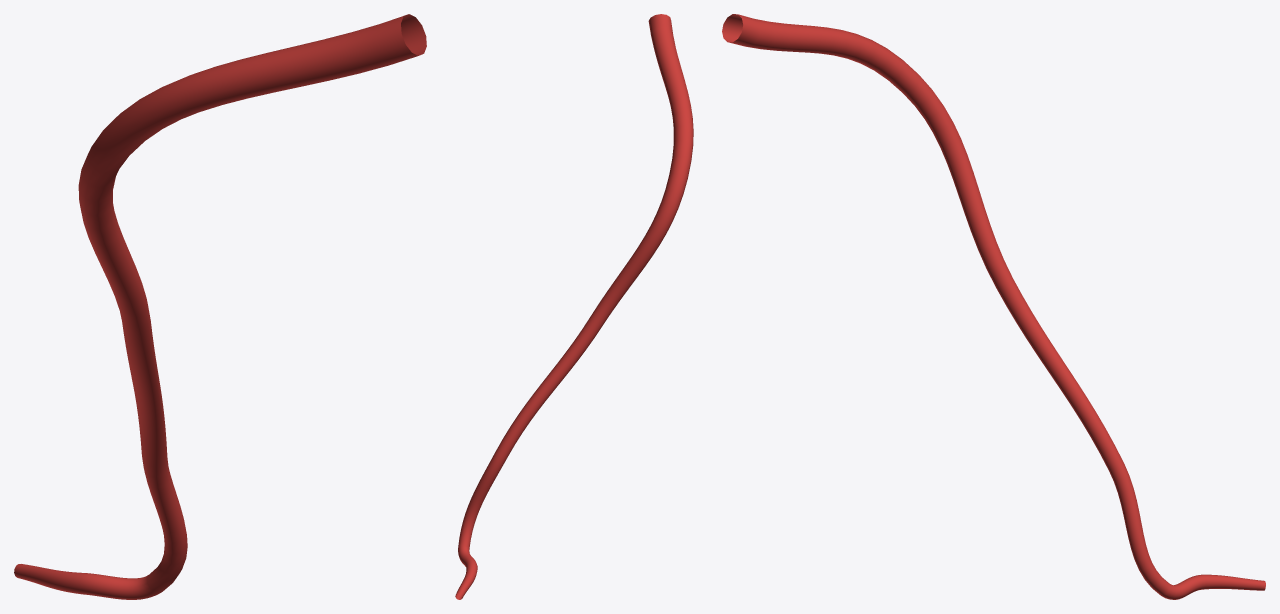
The picture shows the model from 3 angles, left to right: view 1: azimuth 30°, elevation 25°; view 2: azimuth 150°, elevation 25°; view 3: azimuth 270°, elevation 25°; orthographic projection. The views are drawn at different scales.
Parts seen in each view (by area): view 1: 右侧闭孔动脉; view 2: 右侧闭孔动脉; view 3: 右侧闭孔动脉.
Boxes of the visible parts, x1,y1,x2,y2 form: 右侧闭孔动脉: (14,14,426,599); 右侧闭孔动脉: (455,14,693,599); 右侧闭孔动脉: (722,14,1265,599).
Bounding box in the file's own units: 0.024 × 0.075 × 0.0643.
